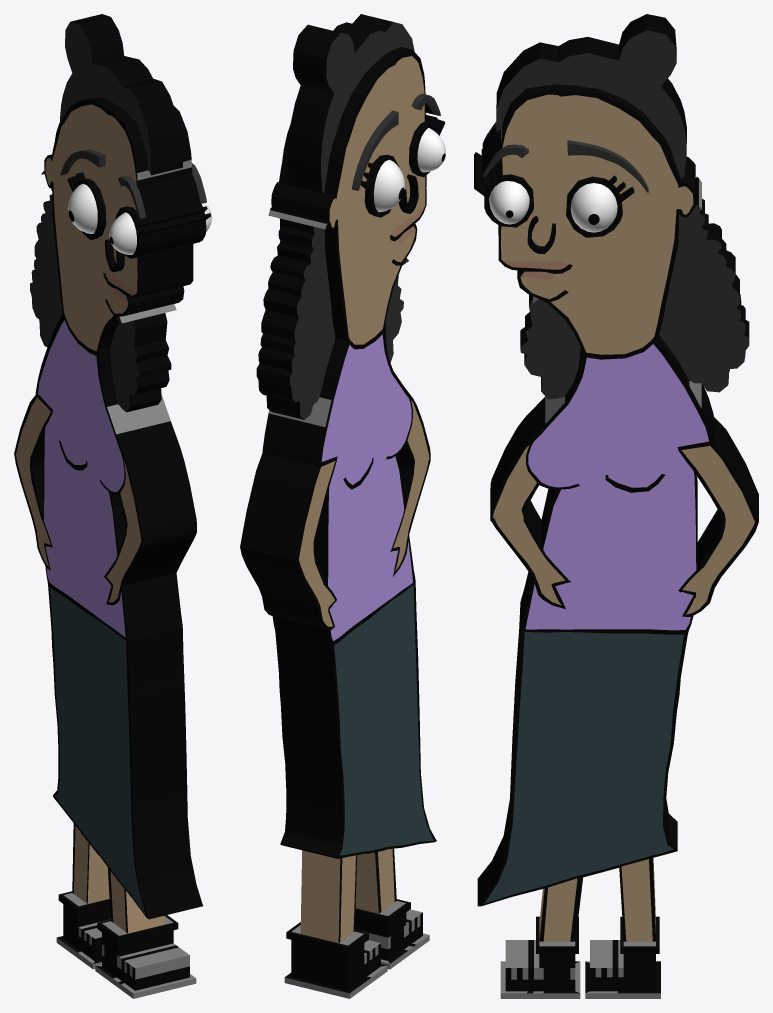
Rendered from Main 1.fbx.
3 views of the same model, side by side, from view 1: azimuth 30°, elevation 25°; view 2: azimuth 150°, elevation 25°; view 3: azimuth 270°, elevation 25° (orthographic). The views are drawn at different scales.
Parts seen in each view (by area): view 1: pPlane1, pSphere1, pSphere2; view 2: pPlane1, pSphere1, pSphere2; view 3: pPlane1, pSphere1, pSphere2.
Boxes of the visible parts, x1,y1,x2,y2 form: pPlane1: (14, 14, 210, 998); pSphere1: (68, 183, 97, 233); pSphere2: (109, 203, 211, 254); pPlane1: (240, 14, 445, 998); pSphere1: (373, 159, 404, 212); pSphere2: (417, 128, 445, 172); pPlane1: (474, 14, 758, 998); pSphere1: (570, 183, 617, 232); pSphere2: (489, 181, 529, 224).
Bounding box in the file's own units: 0.6117 × 5.37 × 1.44.
